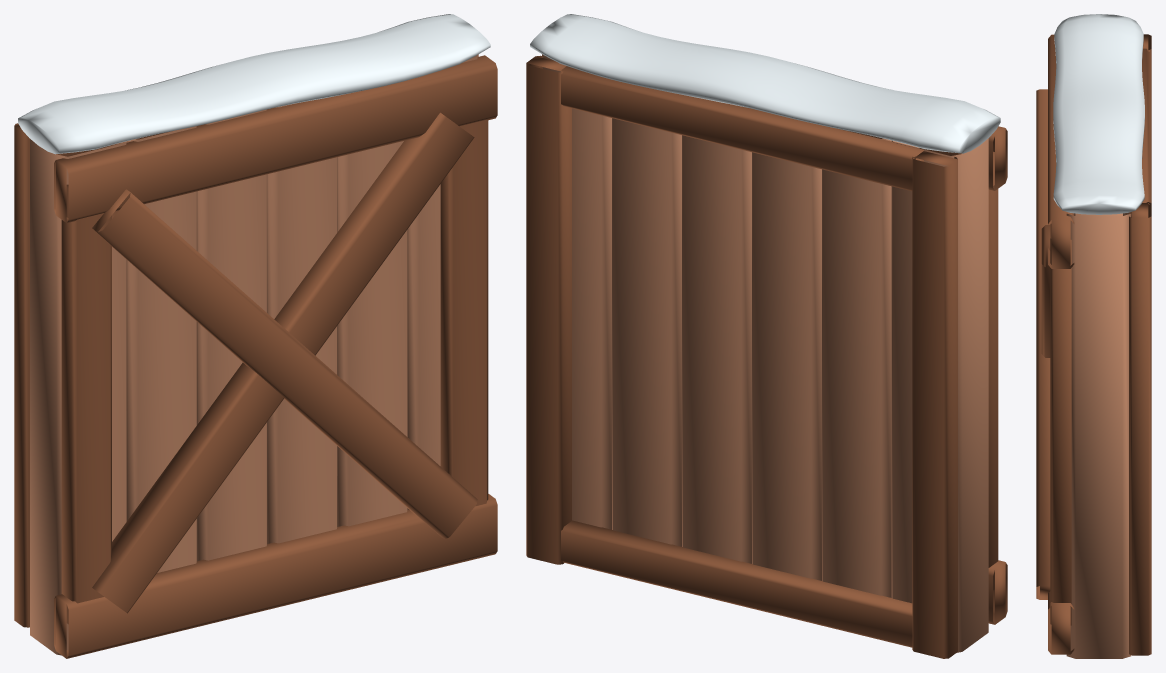
File: snowbound_gate_leaf.obj
3 renders of one model, left to right at view 1: azimuth 30°, elevation 25°; view 2: azimuth 150°, elevation 25°; view 3: azimuth 270°, elevation 25°, orthographic. The views are drawn at different scales.
Parts seen in each view (by area): view 1: snowbound_gate_leaf; view 2: snowbound_gate_leaf; view 3: snowbound_gate_leaf.
Part boxes in pixels (bbox=[...]): snowbound_gate_leaf: bbox=[14, 14, 497, 658]; snowbound_gate_leaf: bbox=[526, 14, 1007, 658]; snowbound_gate_leaf: bbox=[1036, 14, 1151, 658].
Bounding box in the file's own units: 1.12 × 1.31 × 0.294.
